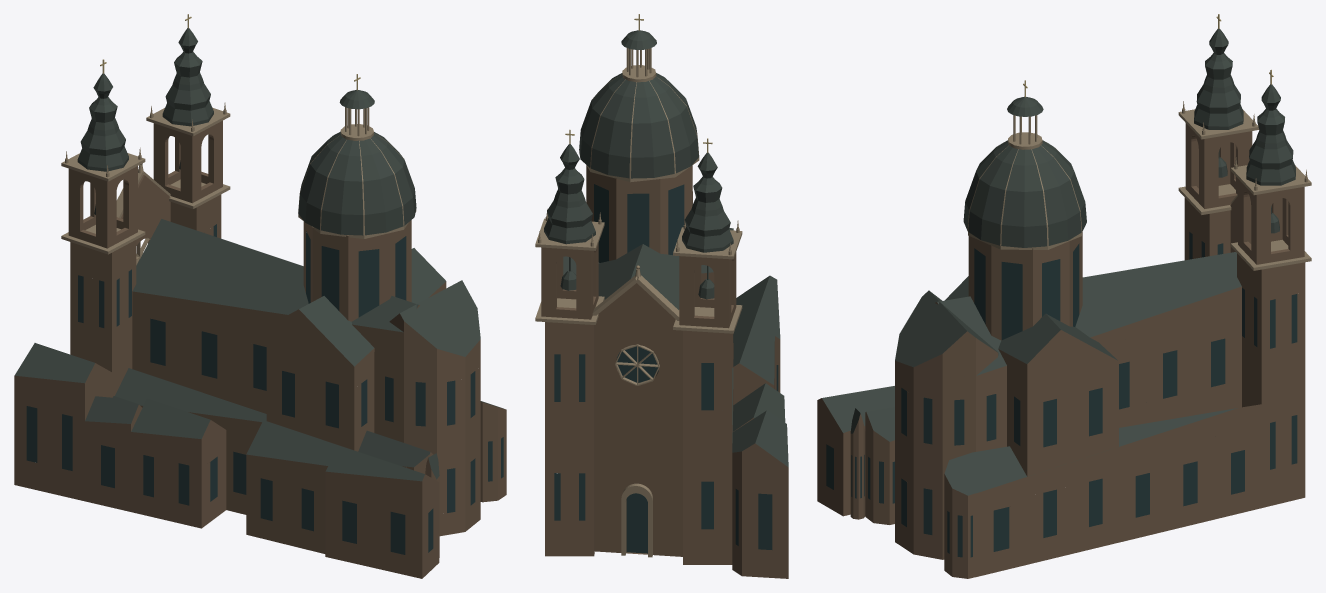
File: basilica-saint-nicholas-amsterdam-far.glb
3 views of the same model, side by side, from view 1: azimuth 30°, elevation 25°; view 2: azimuth 150°, elevation 25°; view 3: azimuth 270°, elevation 25° (orthographic). The views are drawn at different scales.
Visible parts, largest first — view 1: basilica-saint-nicholas-amsterdam-0-brick, basilica-saint-nicholas-amsterdam-0-roof, basilica-saint-nicholas-amsterdam-0-glass, basilica-saint-nicholas-amsterdam-0-stone; view 2: basilica-saint-nicholas-amsterdam-0-brick, basilica-saint-nicholas-amsterdam-0-roof, basilica-saint-nicholas-amsterdam-0-glass, basilica-saint-nicholas-amsterdam-0-stone; view 3: basilica-saint-nicholas-amsterdam-0-brick, basilica-saint-nicholas-amsterdam-0-roof, basilica-saint-nicholas-amsterdam-0-glass, basilica-saint-nicholas-amsterdam-0-stone.
Boxes of the visible parts, bbox=[...] form: basilica-saint-nicholas-amsterdam-0-brick: bbox=[14, 120, 506, 578]; basilica-saint-nicholas-amsterdam-0-roof: bbox=[14, 28, 503, 481]; basilica-saint-nicholas-amsterdam-0-glass: bbox=[26, 224, 503, 554]; basilica-saint-nicholas-amsterdam-0-stone: bbox=[61, 102, 416, 265]; basilica-saint-nicholas-amsterdam-0-brick: bbox=[541, 165, 788, 578]; basilica-saint-nicholas-amsterdam-0-roof: bbox=[544, 30, 788, 467]; basilica-saint-nicholas-amsterdam-0-glass: bbox=[554, 184, 778, 553]; basilica-saint-nicholas-amsterdam-0-stone: bbox=[535, 48, 742, 557]; basilica-saint-nicholas-amsterdam-0-brick: bbox=[817, 123, 1305, 578]; basilica-saint-nicholas-amsterdam-0-roof: bbox=[822, 29, 1295, 495]; basilica-saint-nicholas-amsterdam-0-glass: bbox=[826, 232, 1297, 557]; basilica-saint-nicholas-amsterdam-0-stone: bbox=[967, 101, 1311, 270].
Bounding box in the file's own units: 52.08 × 58 × 59.21.
